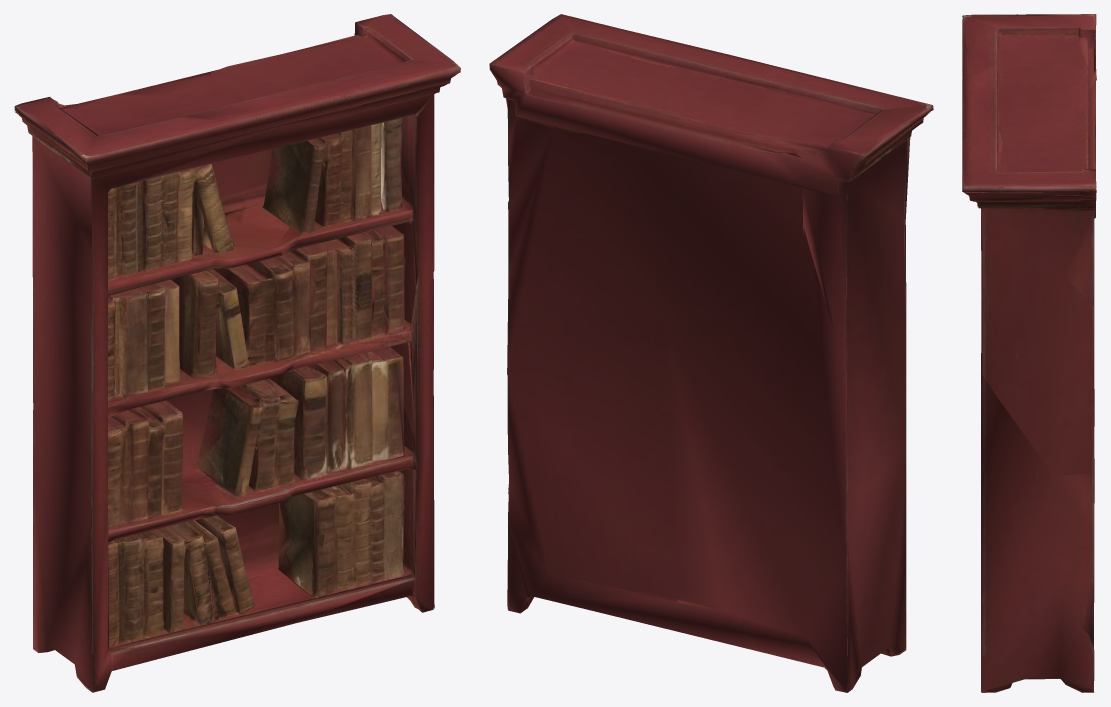
The model's file is bookshelf-ledgers.glb.
3 renders of one model, left to right at view 1: azimuth 30°, elevation 25°; view 2: azimuth 150°, elevation 25°; view 3: azimuth 270°, elevation 25°, orthographic. The views are drawn at different scales.
Parts seen in each view (by area): view 1: Mesh_0; view 2: Mesh_0; view 3: Mesh_0.
Boxes of the visible parts, x1,y1,x2,y2 form: Mesh_0: (14,14,460,692); Mesh_0: (489,14,933,692); Mesh_0: (962,14,1096,692).
Size of the model in its own units: 1.37 by 1.9 by 0.4502.
1 material, 1 textured.
